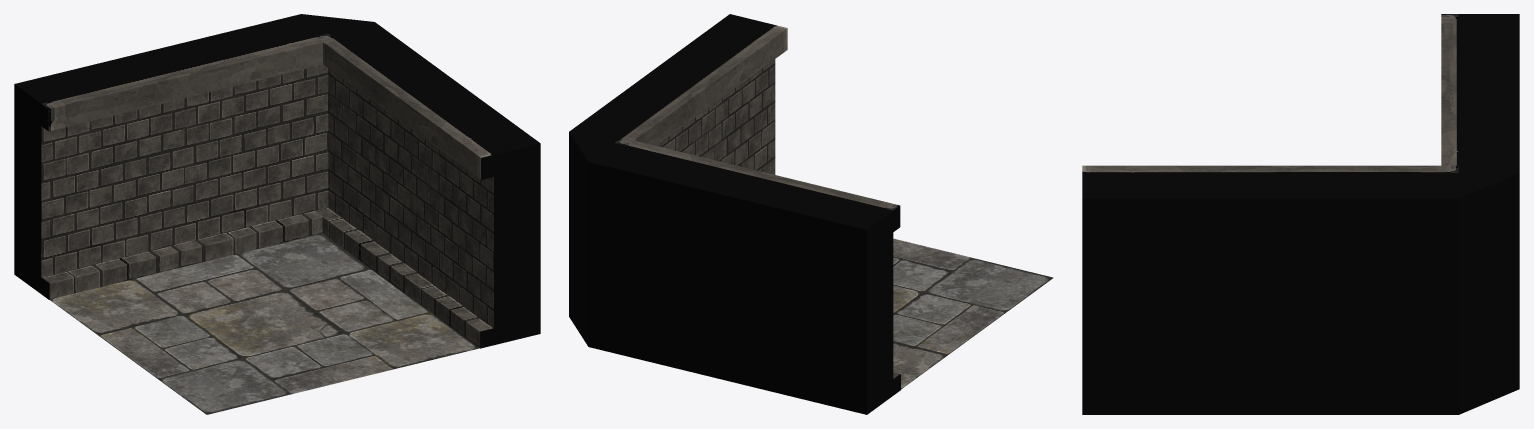
The model's file is ModularCorner01.fbx.
The picture shows the model from 3 angles, left to right: view 1: azimuth 30°, elevation 25°; view 2: azimuth 150°, elevation 25°; view 3: azimuth 270°, elevation 25°; orthographic projection. The views are drawn at different scales.
Parts seen in each view (by area): view 1: Plane, Plane.001; view 2: Plane, Plane.001; view 3: Plane.
Boxes of the visible parts, x1,y1,x2,y2 form: Plane: (14, 14, 540, 348); Plane.001: (49, 233, 479, 414); Plane: (569, 14, 900, 414); Plane.001: (893, 238, 1053, 389); Plane: (1082, 14, 1519, 414).
Bounding box in the file's own units: 3.67 × 2 × 3.66.
Materials: 2 (2 with a texture image).
